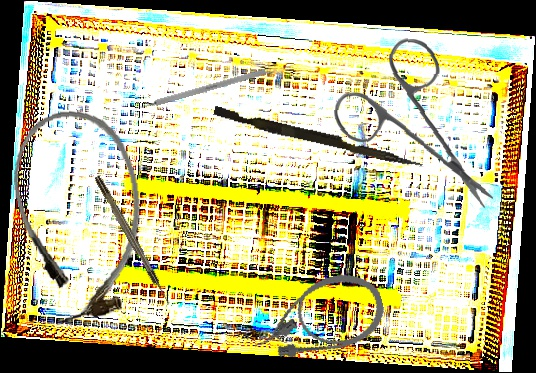Cannula: (3, 102, 155, 328), (243, 265, 391, 370)
Hook Surgical: (93, 174, 173, 307), (128, 68, 267, 114)
Iris Scissors: (329, 34, 502, 209)
Pusher: (212, 106, 425, 169)
